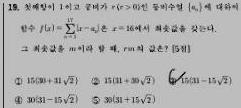choice: (167, 69, 180, 86)
not-choice: (90, 76, 101, 87), (90, 95, 101, 106), (13, 76, 23, 86), (14, 95, 24, 105)
